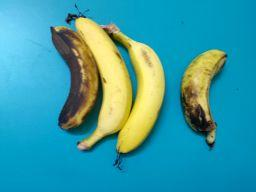banana: (66, 2, 132, 152), (101, 21, 166, 172), (49, 23, 101, 132), (179, 48, 230, 153)
